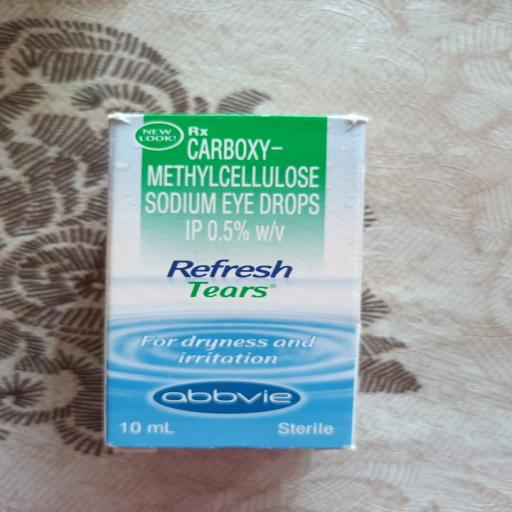refresh tear sodium eye drops: (87, 110, 404, 468)
